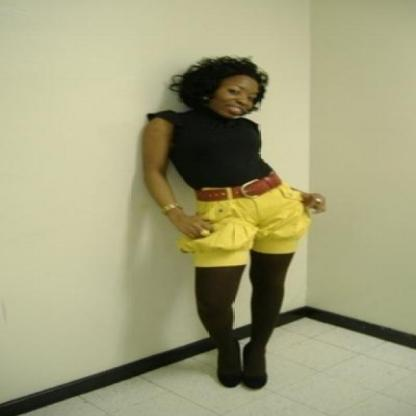shirt: (162, 108, 275, 190)
shoe: (218, 366, 266, 390)
shorts: (177, 181, 307, 279)
